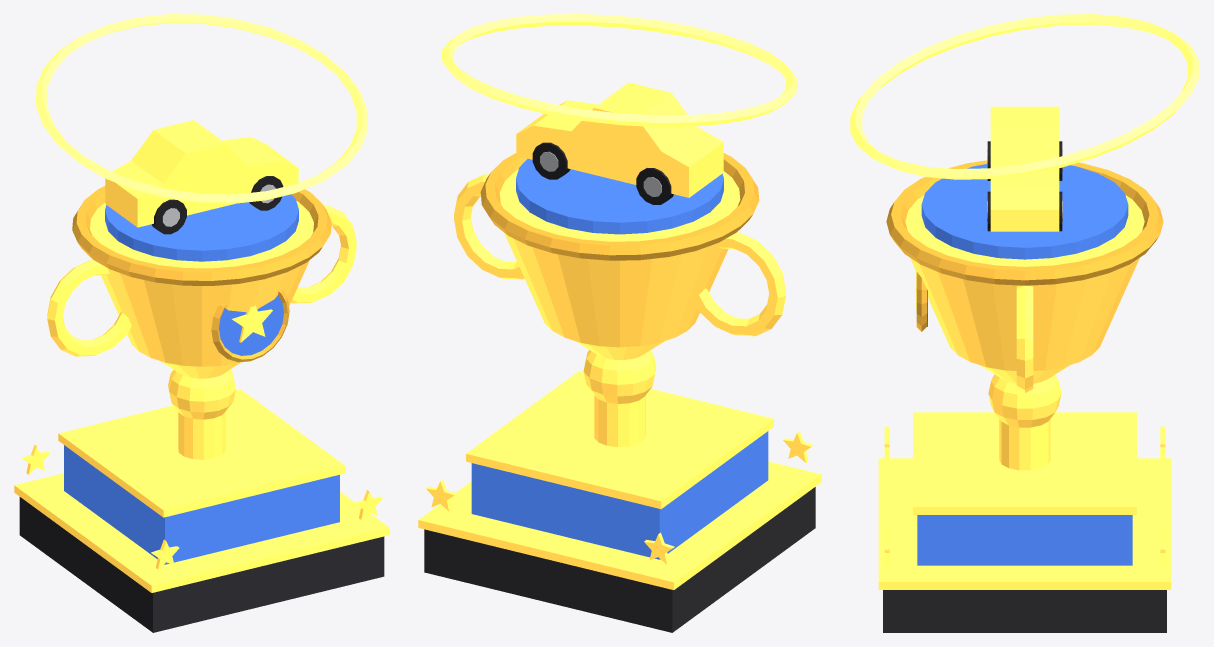
File: collector_trophy.glb
The picture shows the model from 3 angles, left to right: view 1: azimuth 30°, elevation 25°; view 2: azimuth 150°, elevation 25°; view 3: azimuth 270°, elevation 25°; orthographic projection. The views are drawn at different scales.
Parts seen in each view (by area): view 1: collector_trophy; view 2: collector_trophy; view 3: collector_trophy.
Boxes of the visible parts, x1,y1,x2,y2 form: collector_trophy: [14, 14, 389, 632]; collector_trophy: [418, 14, 821, 632]; collector_trophy: [850, 14, 1199, 632].
Bounding box in the file's own units: 0.884 × 1.3 × 0.811.
